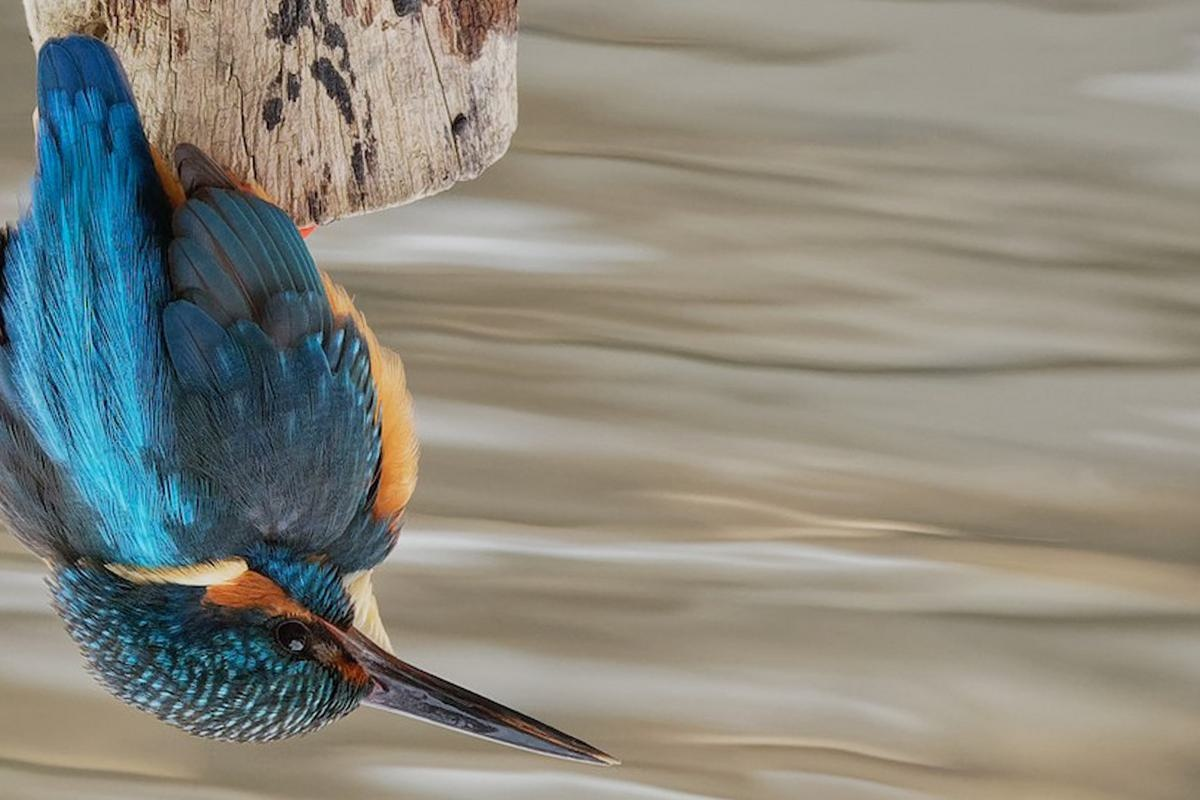kingfisher: (1, 67, 620, 782)
